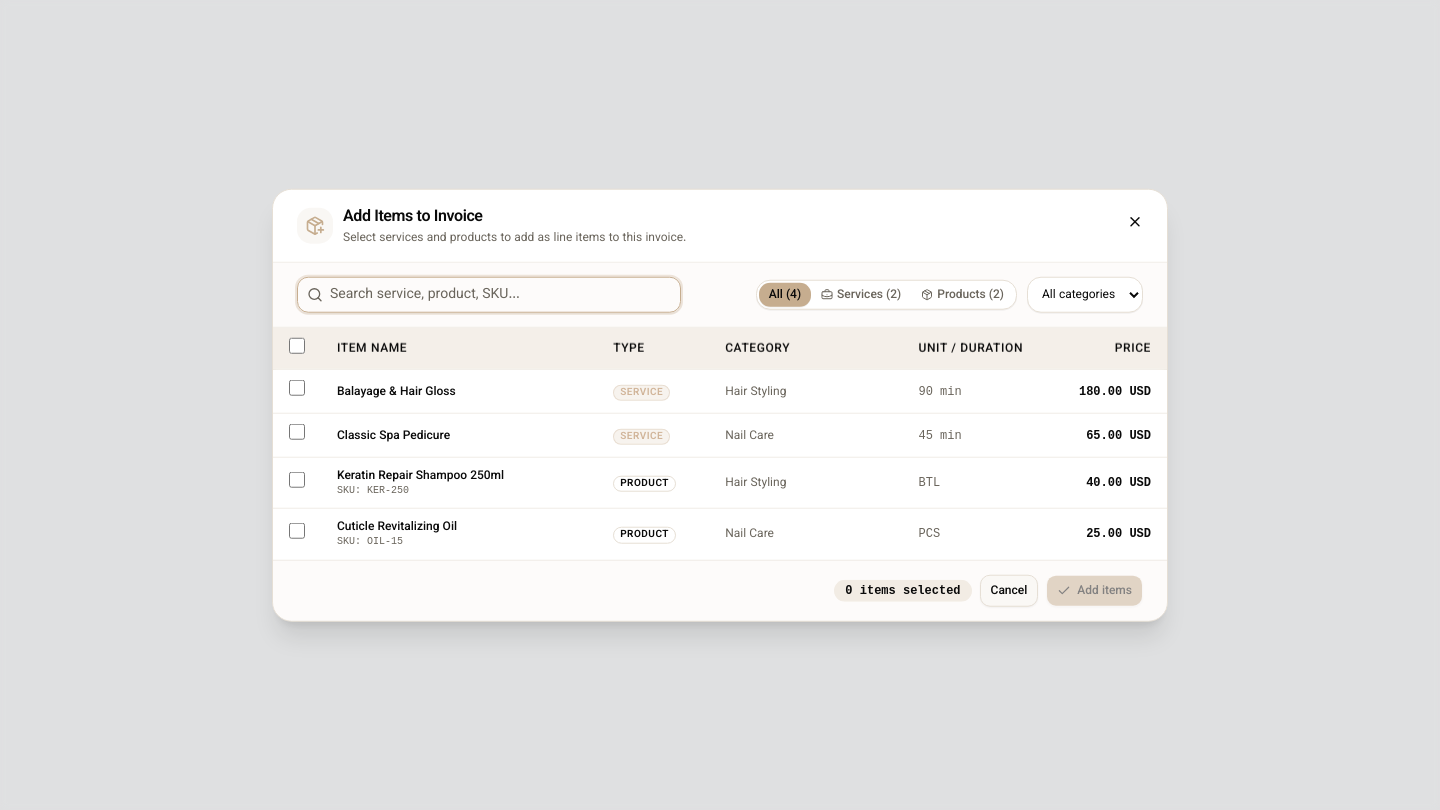
AddSalesItemModal › filters items by category dropdown
The width and height of the screenshot is (1440, 810).
Select "Nail Care" in the dropdown named "Category": (1085, 295) x1=1027 y1=277 x2=1143 y2=313
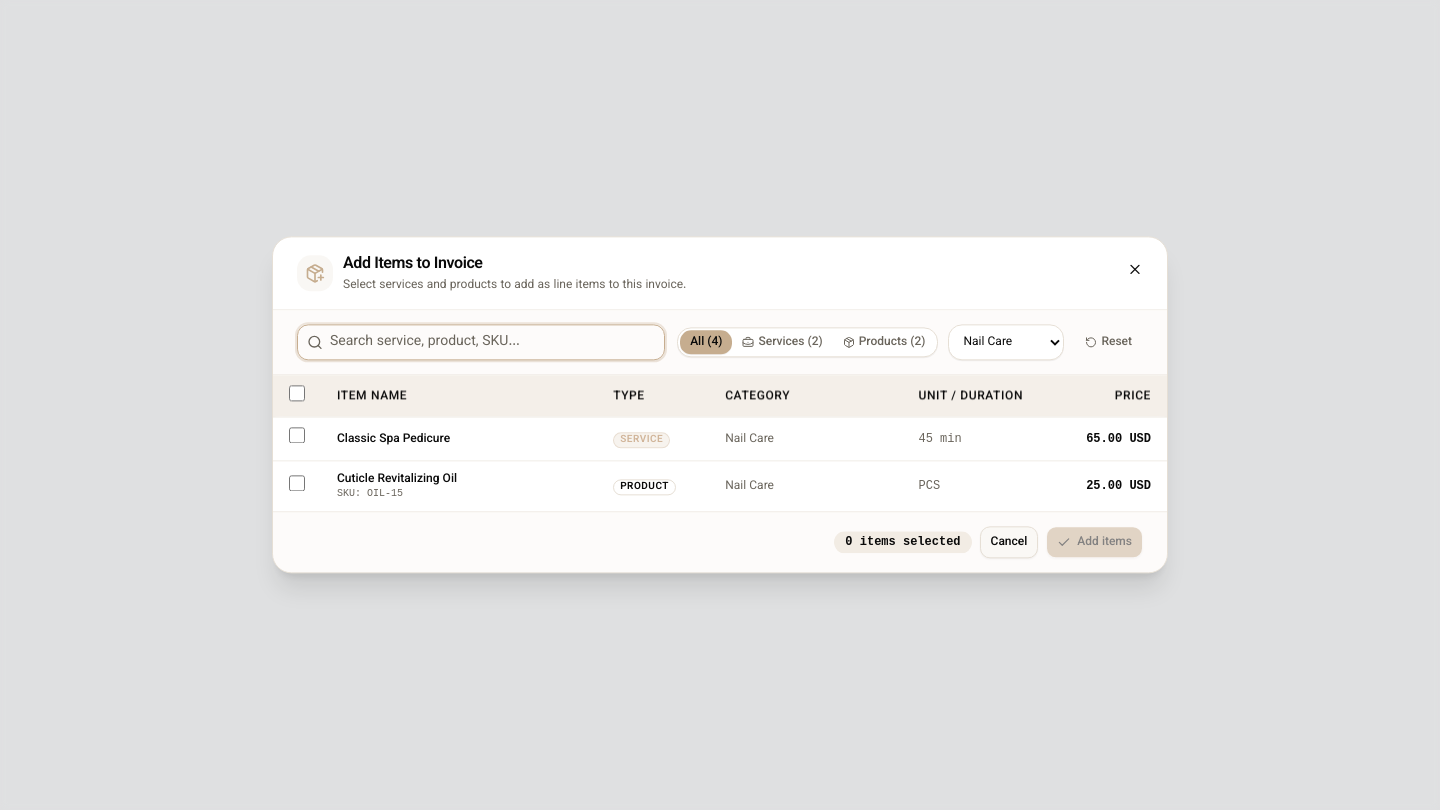
Expected: the text "Classic Spa Pedicure" is shown, x1=337 y1=430 x2=450 y2=448
Now the text "Balayage & Hair Gloss" is gone
